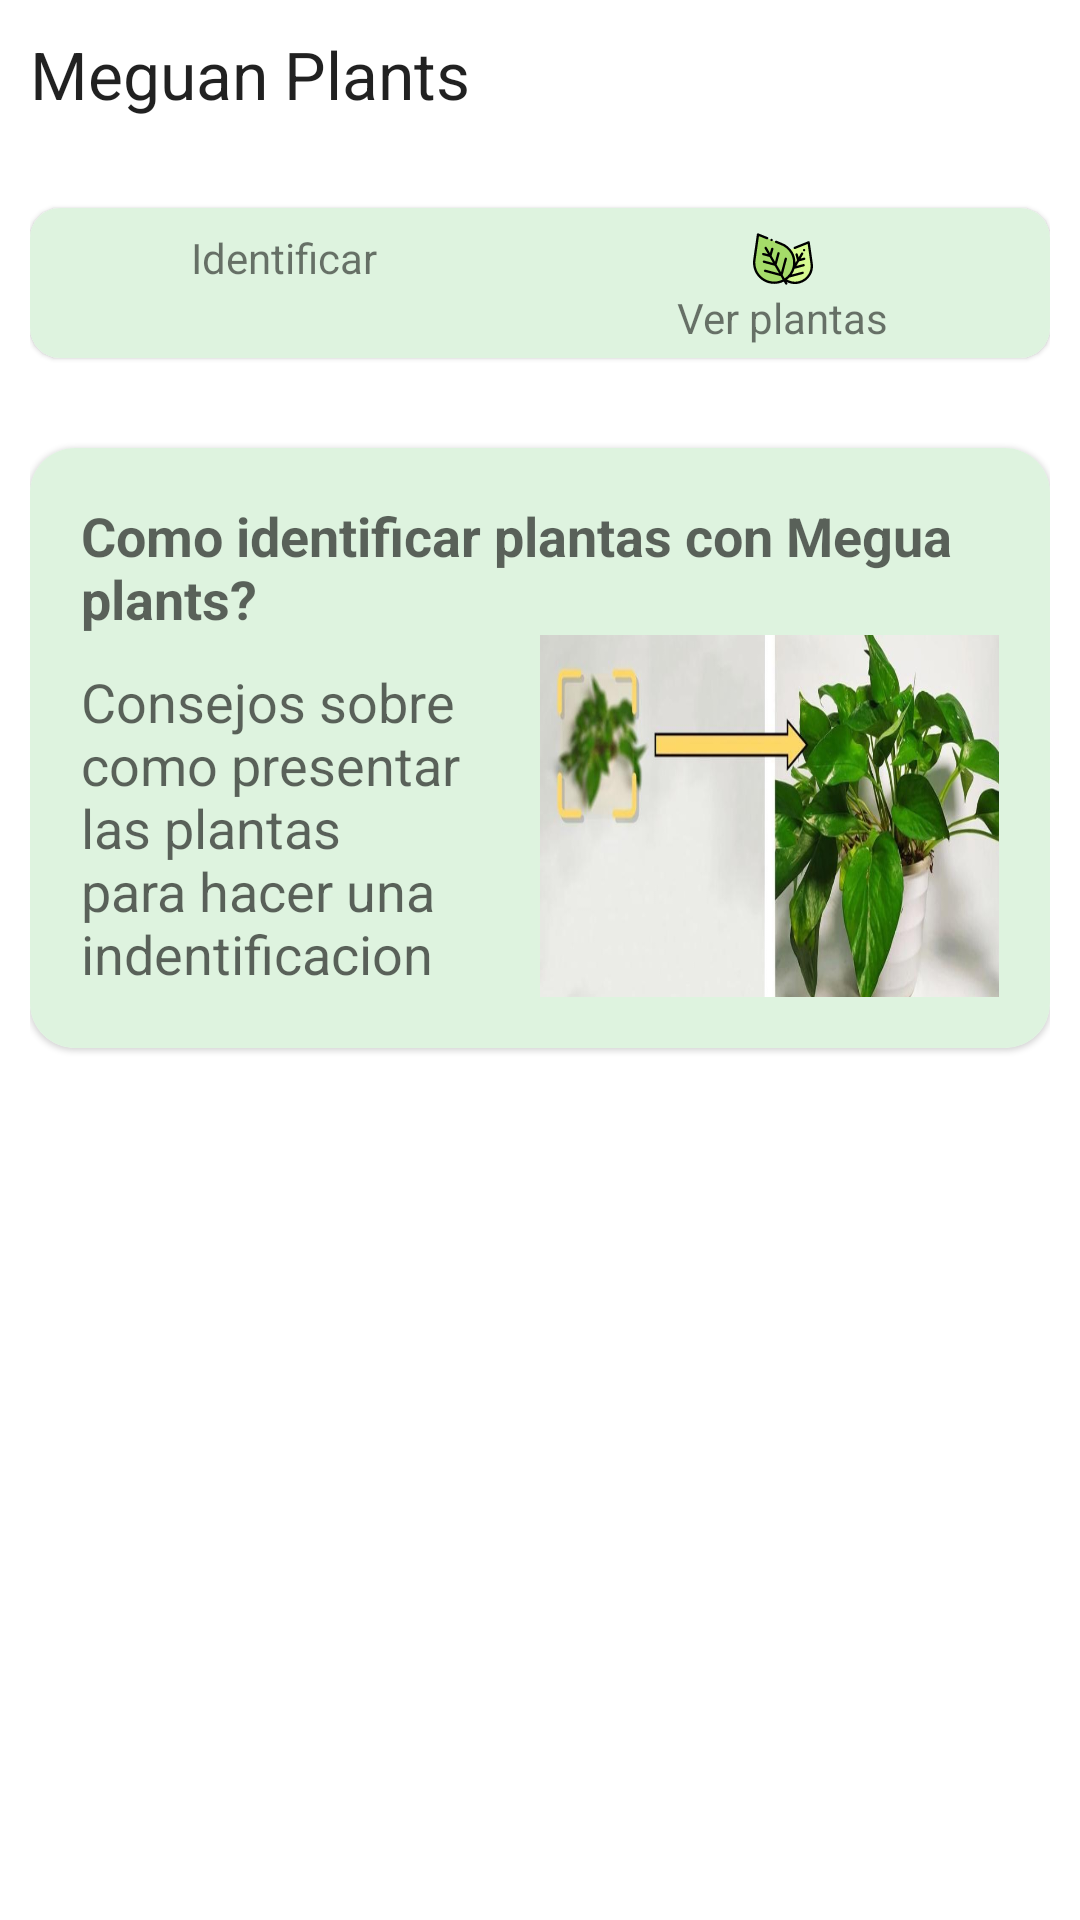

Icons on this 1080 x 1920 Android screen, each with the point to tap as (x,y):
hoja: (783,259)
